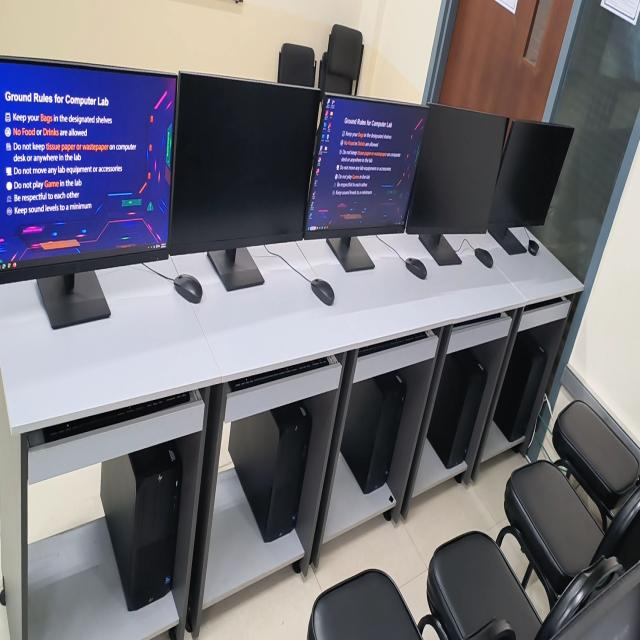Chair: (496, 460, 640, 610), (427, 531, 621, 639), (552, 401, 640, 519), (307, 569, 421, 639), (318, 25, 364, 99), (277, 43, 315, 86)
Cpu: (101, 441, 183, 609), (229, 402, 312, 542), (341, 373, 406, 493), (427, 350, 487, 469), (493, 331, 547, 441)
Monitor: (0, 57, 176, 329), (169, 73, 320, 291), (303, 93, 428, 272), (406, 104, 508, 265), (488, 121, 574, 254), (559, 564, 640, 639)
Mouse: (174, 274, 202, 303), (311, 279, 334, 306), (406, 257, 427, 279), (475, 248, 493, 268), (527, 240, 539, 255)
